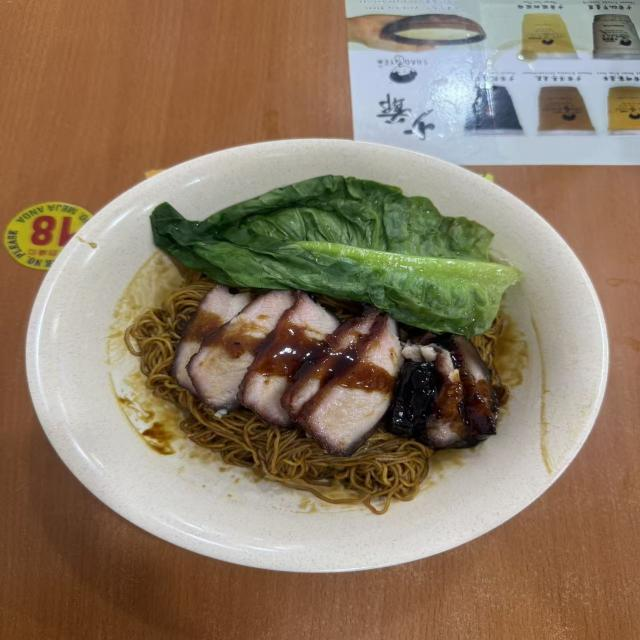Wantan Mee: (75, 153, 583, 536)
